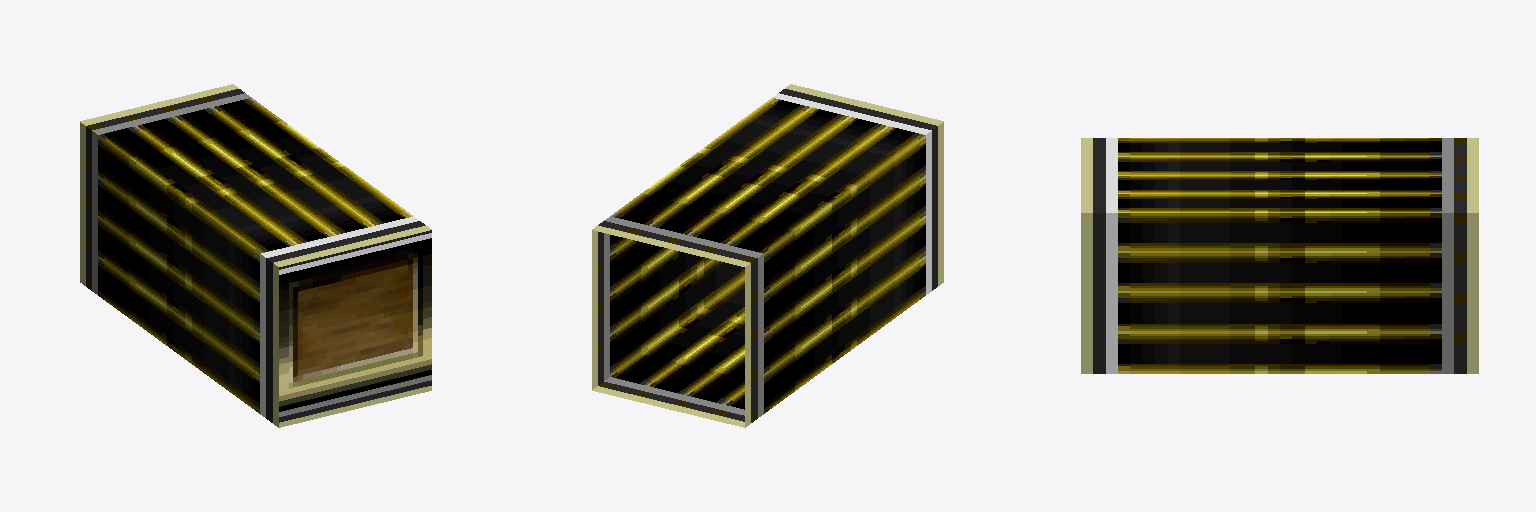
3 renders of one model, left to right at view 1: azimuth 30°, elevation 25°; view 2: azimuth 150°, elevation 25°; view 3: azimuth 270°, elevation 25°, orthographic.
Visible parts, largest first — view 1: world_root; view 2: world_root; view 3: world_root.
Part boxes in pixels (left/top/right/bottom): world_root: left=80, top=84, right=431, bottom=427; world_root: left=592, top=84, right=943, bottom=427; world_root: left=1081, top=138, right=1478, bottom=373.
Size of the model in its own units: 25 by 25 by 56.25.
Materials: 2 (2 with a texture image).